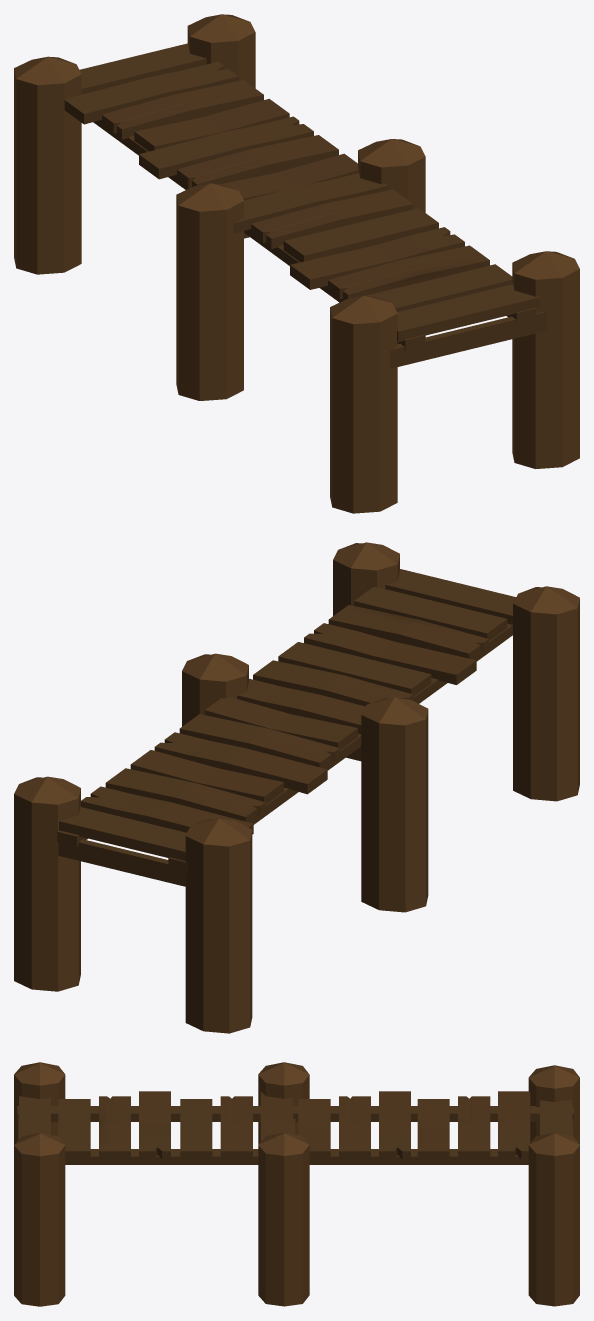
File: dock.fbx
3 renders of one model, top to bottom at view 1: azimuth 30°, elevation 25°; view 2: azimuth 150°, elevation 25°; view 3: azimuth 270°, elevation 25°, orthographic. The views are drawn at different scales.
Parts seen in each view (by area): view 1: Cube.023, Cube.022, Cube.026, Cube.021, Cube.017, Cube.008, Cube.019, Cube.009, Cube.006, Cube.016, Cube.004, Cube.003 (+10 smaller); view 2: Cube.023, Cube.026, Cube.022, Cube.025, Cube.008, Cube.003, Cube.004, Cube.017, Cube.009, Cube.020, Cube.007, Cube (+10 smaller); view 3: Cube.021, Cube.024, Cube.025, Cube.013, Cube.019, Cube.008, Cube.003, Cube.026, Cube.006, Cube.017, Cube.022, Cube.004 (+10 smaller).
Boxes of the visible parts, left/top/right/bottom form: Cube.023: left=176, top=183, right=243, bottom=400; Cube.022: left=330, top=295, right=397, bottom=513; Cube.026: left=14, top=56, right=81, bottom=274; Cube.021: left=512, top=251, right=579, bottom=468; Cube.017: left=102, top=80, right=263, bottom=139; Cube.008: left=139, top=116, right=313, bottom=179; Cube.019: left=64, top=61, right=238, bottom=124; Cube.009: left=177, top=135, right=338, bottom=188; Cube.006: left=251, top=189, right=413, bottom=248; Cube.016: left=397, top=284, right=540, bottom=341; Cube.004: left=328, top=245, right=489, bottom=300; Cube.003: left=290, top=227, right=464, bottom=289; Cube.023: left=361, top=697, right=428, bottom=912; Cube.026: left=185, top=818, right=252, bottom=1033; Cube.022: left=513, top=586, right=579, bottom=801; Cube.025: left=14, top=776, right=80, bottom=991; Cube.008: left=154, top=732, right=327, bottom=794; Cube.003: left=304, top=623, right=476, bottom=684; Cube.004: left=328, top=605, right=488, bottom=659; Cube.017: left=105, top=768, right=265, bottom=822; Cube.009: left=179, top=714, right=339, bottom=768; Cube.020: left=59, top=807, right=186, bottom=860; Cube.007: left=278, top=642, right=431, bottom=696; Cube: left=354, top=587, right=507, bottom=640; Cube.021: left=14, top=1133, right=65, bottom=1306; Cube.024: left=258, top=1132, right=309, bottom=1306; Cube.025: left=528, top=1132, right=579, bottom=1306; Cube.013: left=65, top=1149, right=528, bottom=1164; Cube.019: left=498, top=1091, right=530, bottom=1159; Cube.008: left=379, top=1091, right=410, bottom=1159; Cube.003: left=139, top=1091, right=170, bottom=1159; Cube.026: left=528, top=1065, right=579, bottom=1144; Cube.006: left=220, top=1096, right=252, bottom=1159; Cube.017: left=458, top=1096, right=490, bottom=1159; Cube.022: left=14, top=1062, right=65, bottom=1144; Cube.004: left=99, top=1096, right=130, bottom=1159.
Size of the model in its own units: 849 by 682 by 2158.
